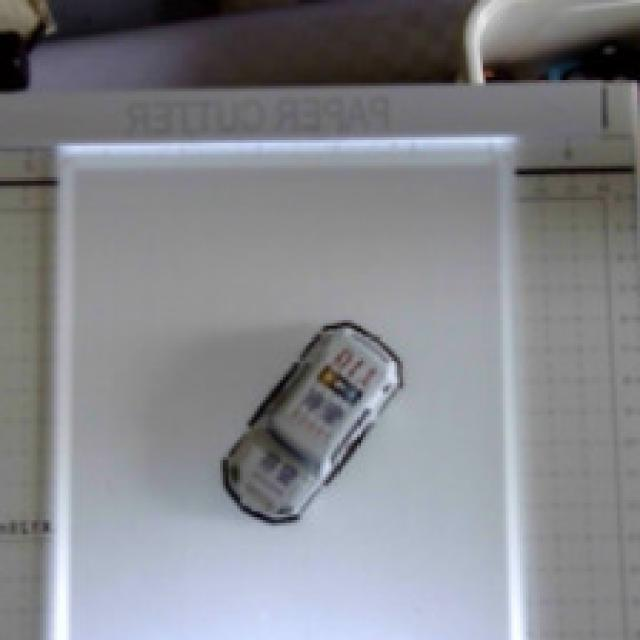Grey Car: (179, 302, 423, 545)
